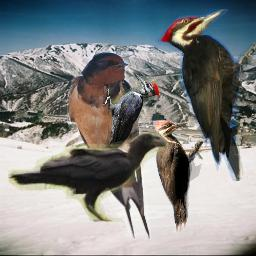Crow: (8, 132, 169, 222)
Swallow: (67, 51, 151, 240)
Woodpecker: (155, 9, 256, 181), (153, 120, 203, 232), (103, 72, 159, 154)
